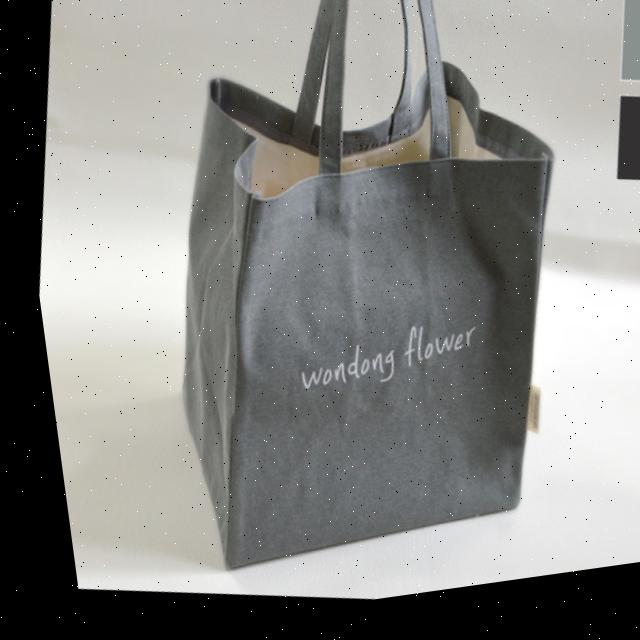ecobag: (80, 0, 633, 631)
